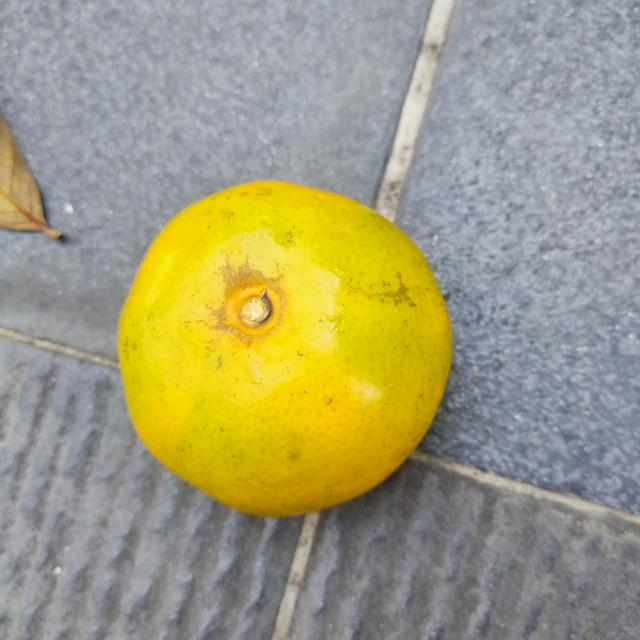orange: (120, 180, 462, 524)
